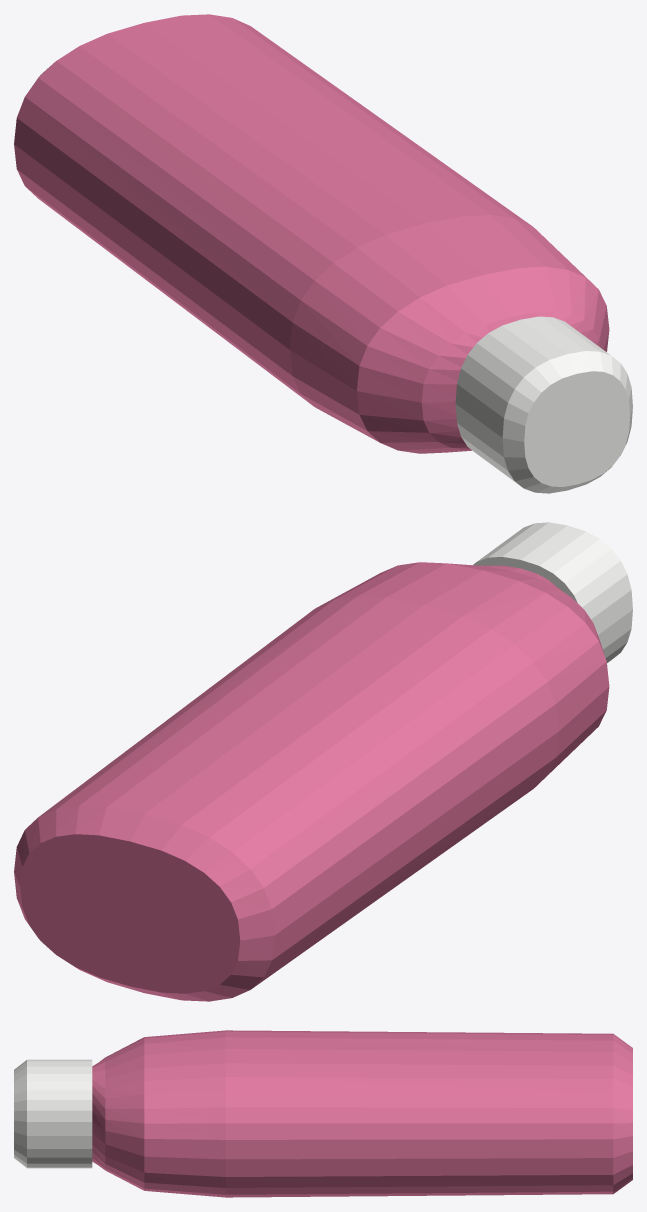
The model's file is condicionador_350ml.obj.
3 views of the same model, one above another, from view 1: azimuth 30°, elevation 25°; view 2: azimuth 150°, elevation 25°; view 3: azimuth 270°, elevation 25° (orthographic). The views are drawn at different scales.
Visible parts, largest first — view 1: condicionador_350ml_frasco, condicionador_350ml_tampa; view 2: condicionador_350ml_frasco, condicionador_350ml_tampa; view 3: condicionador_350ml_frasco, condicionador_350ml_tampa.
Boxes of the visible parts, <box> form: condicionador_350ml_frasco: <box>14,14,609,453</box>; condicionador_350ml_tampa: <box>455,316,632,493</box>; condicionador_350ml_frasco: <box>14,562,609,1001</box>; condicionador_350ml_tampa: <box>473,522,632,662</box>; condicionador_350ml_frasco: <box>92,1030,632,1197</box>; condicionador_350ml_tampa: <box>14,1059,92,1168</box>.
Size of the model in its own units: 66 by 44 by 190.
